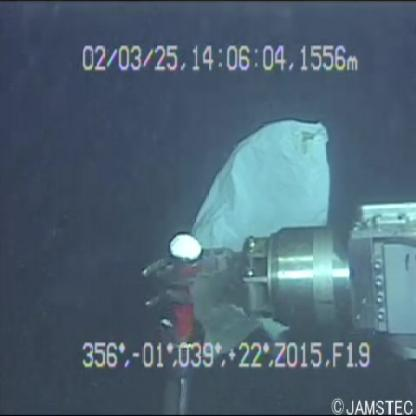Rov: (133, 201, 416, 363)
Rác: (173, 101, 332, 272)
